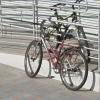bicycles: (24, 22, 89, 91), (40, 0, 92, 63)
